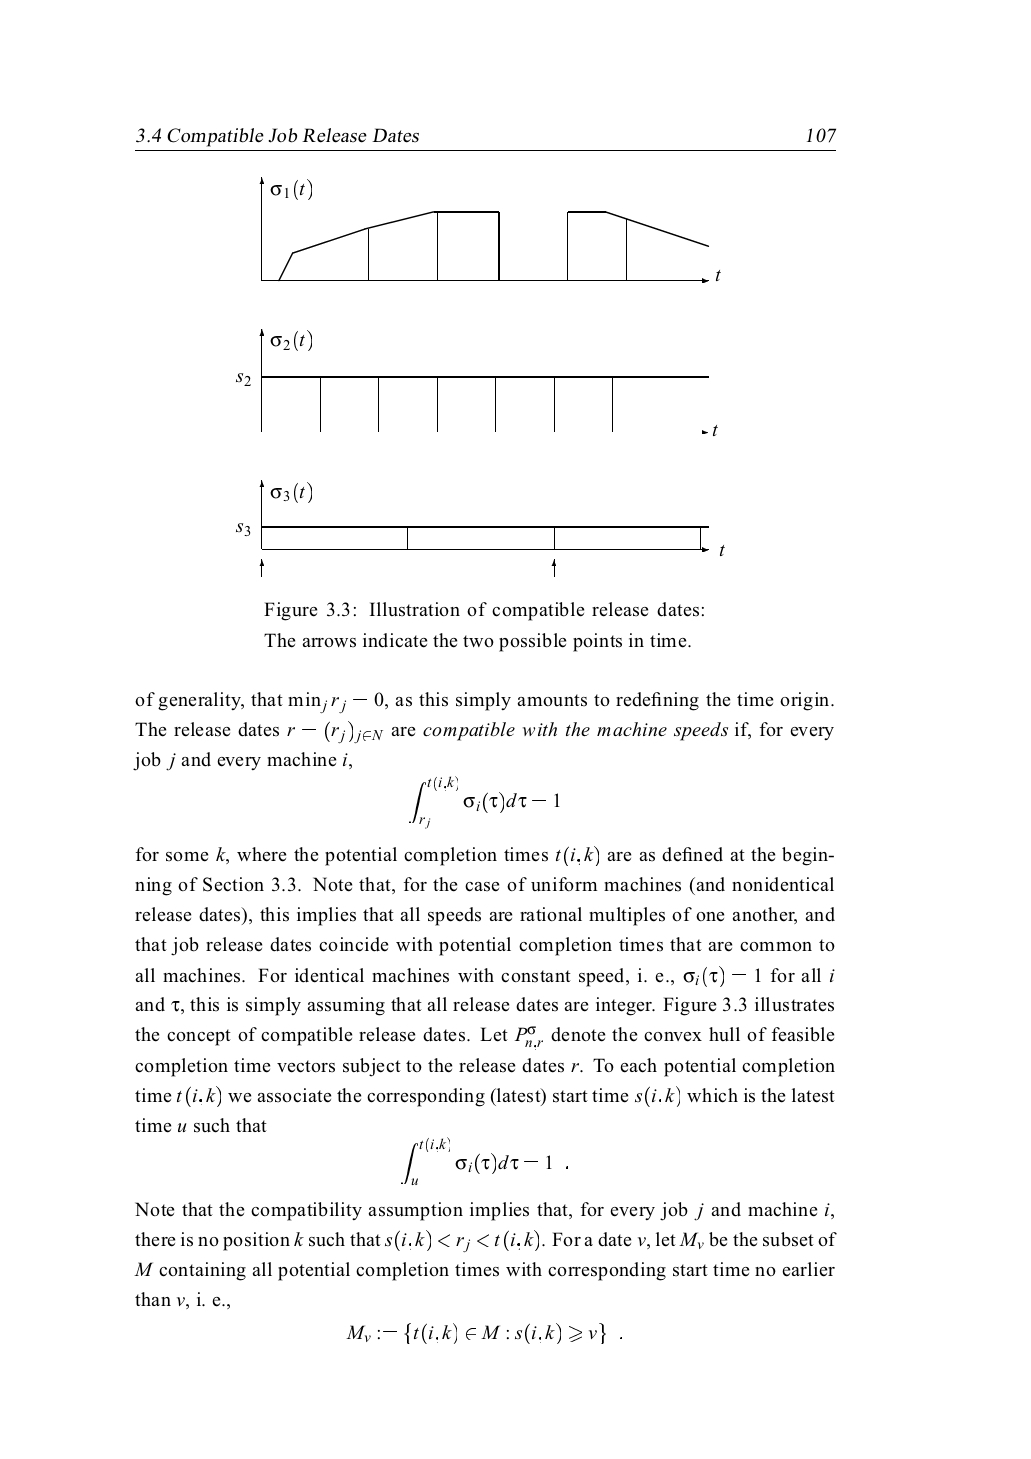figure: (237, 328, 717, 437), (259, 176, 720, 283), (237, 480, 724, 576)
formula: (401, 1136, 567, 1186), (409, 775, 559, 829), (346, 1321, 622, 1344)
